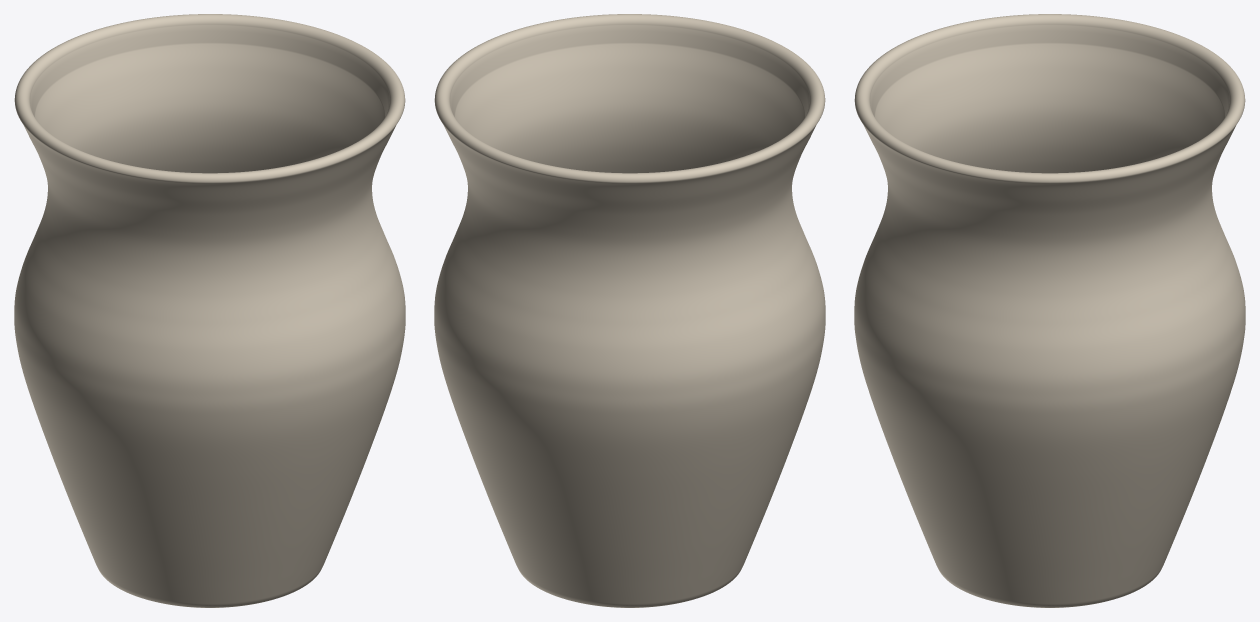
Rendered from fonte-egipcio.glb.
The picture shows the model from 3 angles, left to right: view 1: azimuth 30°, elevation 25°; view 2: azimuth 150°, elevation 25°; view 3: azimuth 270°, elevation 25°; orthographic projection.
Parts seen in each view (by area): view 1: cuerpo; view 2: cuerpo; view 3: cuerpo.
Part boxes in pixels (box(x1,y1,x2,y2)): cuerpo: box(14, 14, 405, 607); cuerpo: box(434, 14, 825, 607); cuerpo: box(854, 14, 1245, 607).
Bounding box in the file's own units: 0.7601 × 1 × 0.7601.
